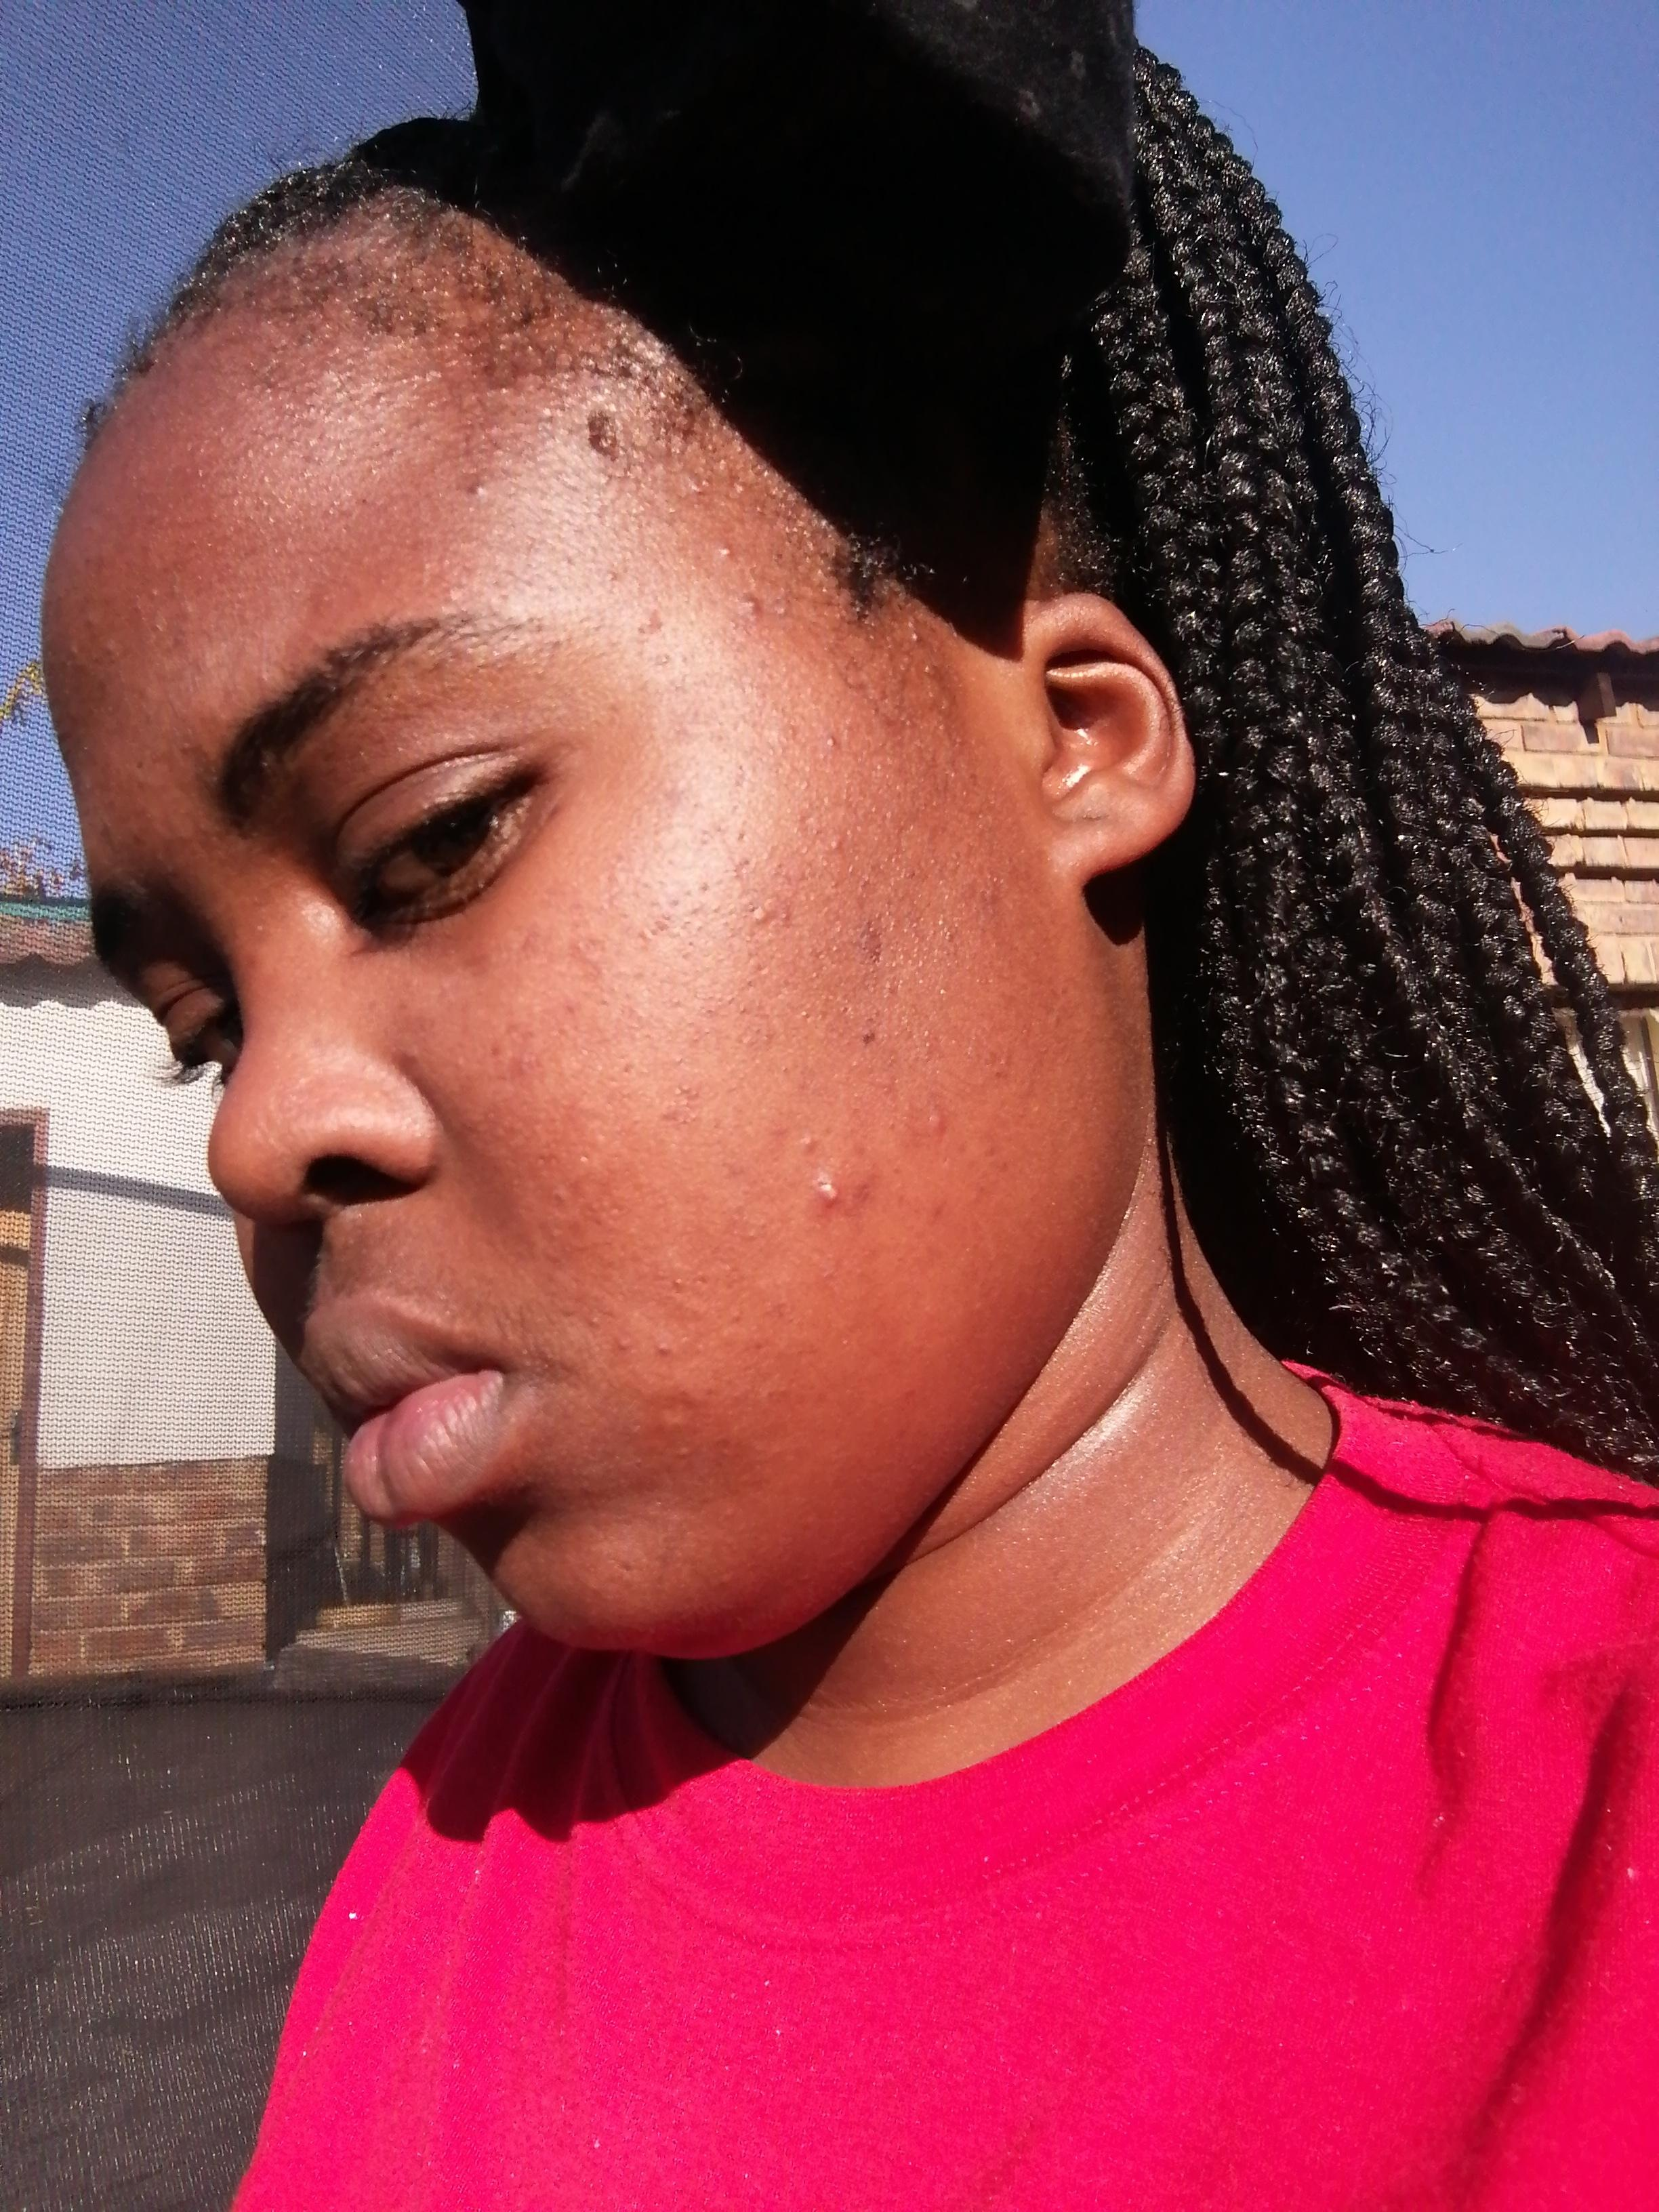Acne: (63, 606, 124, 664), (653, 1080, 702, 1127), (911, 1096, 955, 1148), (854, 911, 887, 972), (739, 897, 796, 928), (805, 1174, 845, 1211), (734, 592, 772, 624), (711, 533, 744, 568), (638, 604, 671, 639), (582, 1306, 613, 1338), (610, 1327, 640, 1360), (819, 831, 849, 860), (795, 1127, 824, 1157), (465, 475, 491, 507), (652, 648, 681, 674), (598, 561, 624, 587), (652, 1332, 676, 1359), (823, 726, 842, 751)
